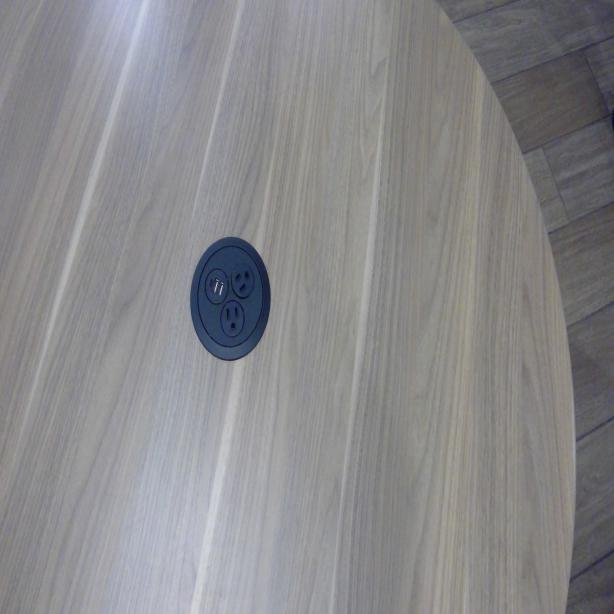typeb: (221, 302, 244, 336), (231, 265, 253, 295)
